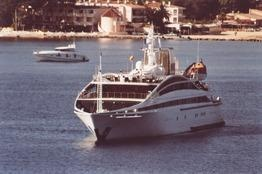yacht: (69, 29, 225, 140), (28, 41, 91, 67)
